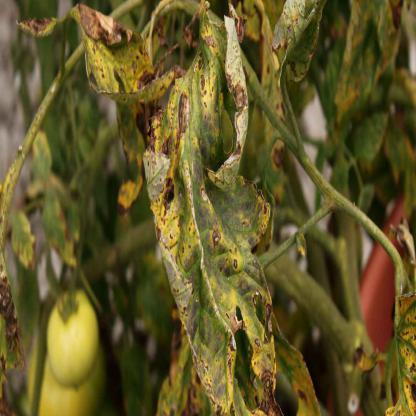Tomato Septoria leaf spot: (142, 13, 279, 416), (50, 11, 166, 104)
